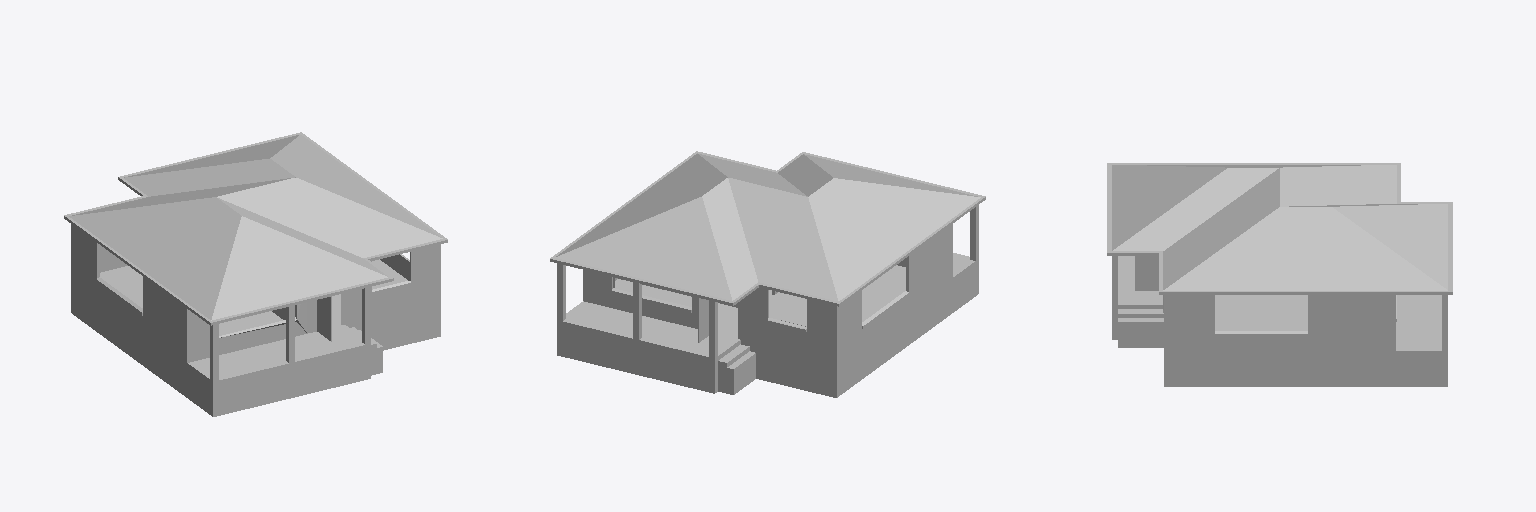
The model's file is house_y_wip.obj.
3 renders of one model, left to right at view 1: azimuth 30°, elevation 25°; view 2: azimuth 150°, elevation 25°; view 3: azimuth 270°, elevation 25°, orthographic.
Parts seen in each view (by area): view 1: polySurface1 polySurface115, polySurface1 polySurface113, polySurface1 polySurface120, polySurface1 polySurface3, polySurface1 polySurface135, polySurface1 polySurface118, polySurface1 polySurface10, polySurface1 polySurface136, pCube5, polySurface1 polySurface27, polySurface2 polySurface1, polySurface1 polySurface117 (+10 smaller); view 2: polySurface1 polySurface115, polySurface1 polySurface119, polySurface1 polySurface116, polySurface1 polySurface32, pCube5, polySurface1 polySurface141, polySurface1 polySurface118, polySurface1 polySurface40, polySurface1 polySurface136, polySurface1 polySurface27, polySurface1 polySurface117, polySurface1 polySurface31 (+9 smaller); view 3: polySurface1 polySurface118, polySurface1 polySurface45, polySurface1 polySurface113, polySurface1 polySurface119, polySurface1 polySurface116, polySurface1 polySurface120, polySurface1 polySurface80, polySurface1 polySurface114, pCube5, polySurface1 polySurface143, polySurface1 polySurface79, polySurface1 polySurface142 (+9 smaller).
Boxes of the visible parts, x1=… form: polySurface1 polySurface115: x1=76, y1=199, x2=238, y2=314; polySurface1 polySurface113: x1=216, y1=219, x2=379, y2=315; polySurface1 polySurface120: x1=225, y1=180, x2=434, y2=254; polySurface1 polySurface3: x1=307, y1=244, x2=440, y2=333; polySurface1 polySurface135: x1=213, y1=356, x2=370, y2=416; polySurface1 polySurface118: x1=274, y1=137, x2=433, y2=233; polySurface1 polySurface10: x1=188, y1=325, x2=364, y2=379; polySurface1 polySurface136: x1=71, y1=290, x2=212, y2=416; pCube5: x1=100, y1=245, x2=409, y2=335; polySurface1 polySurface27: x1=90, y1=238, x2=159, y2=353; polySurface2 polySurface1: x1=187, y1=302, x2=306, y2=362; polySurface1 polySurface117: x1=130, y1=160, x2=288, y2=194; polySurface1 polySurface115: x1=811, y1=180, x2=973, y2=296; polySurface1 polySurface119: x1=564, y1=199, x2=727, y2=295; polySurface1 polySurface116: x1=732, y1=182, x2=833, y2=296; polySurface1 polySurface32: x1=738, y1=287, x2=836, y2=374; pCube5: x1=613, y1=258, x2=905, y2=336; polySurface1 polySurface141: x1=557, y1=332, x2=714, y2=393; polySurface1 polySurface118: x1=564, y1=156, x2=724, y2=252; polySurface1 polySurface40: x1=563, y1=301, x2=739, y2=356; polySurface1 polySurface136: x1=837, y1=271, x2=978, y2=397; polySurface1 polySurface27: x1=856, y1=244, x2=924, y2=359; polySurface1 polySurface117: x1=705, y1=183, x2=755, y2=295; polySurface1 polySurface31: x1=583, y1=270, x2=697, y2=328; polySurface1 polySurface118: x1=1171, y1=210, x2=1440, y2=287; polySurface1 polySurface45: x1=1202, y1=295, x2=1340, y2=362; polySurface1 polySurface113: x1=1116, y1=166, x2=1222, y2=245; polySurface1 polySurface119: x1=1336, y1=205, x2=1443, y2=284; polySurface1 polySurface116: x1=1284, y1=166, x2=1392, y2=204; polySurface1 polySurface120: x1=1167, y1=172, x2=1275, y2=285; polySurface1 polySurface80: x1=1341, y1=295, x2=1395, y2=362; polySurface1 polySurface114: x1=1121, y1=171, x2=1270, y2=247; pCube5: x1=1215, y1=295, x2=1307, y2=330; polySurface1 polySurface143: x1=1202, y1=363, x2=1340, y2=386; polySurface1 polySurface79: x1=1164, y1=295, x2=1201, y2=362; polySurface1 polySurface142: x1=1341, y1=363, x2=1447, y2=386.
Bounding box in the file's own units: 12.57 × 6.27 × 14.27.